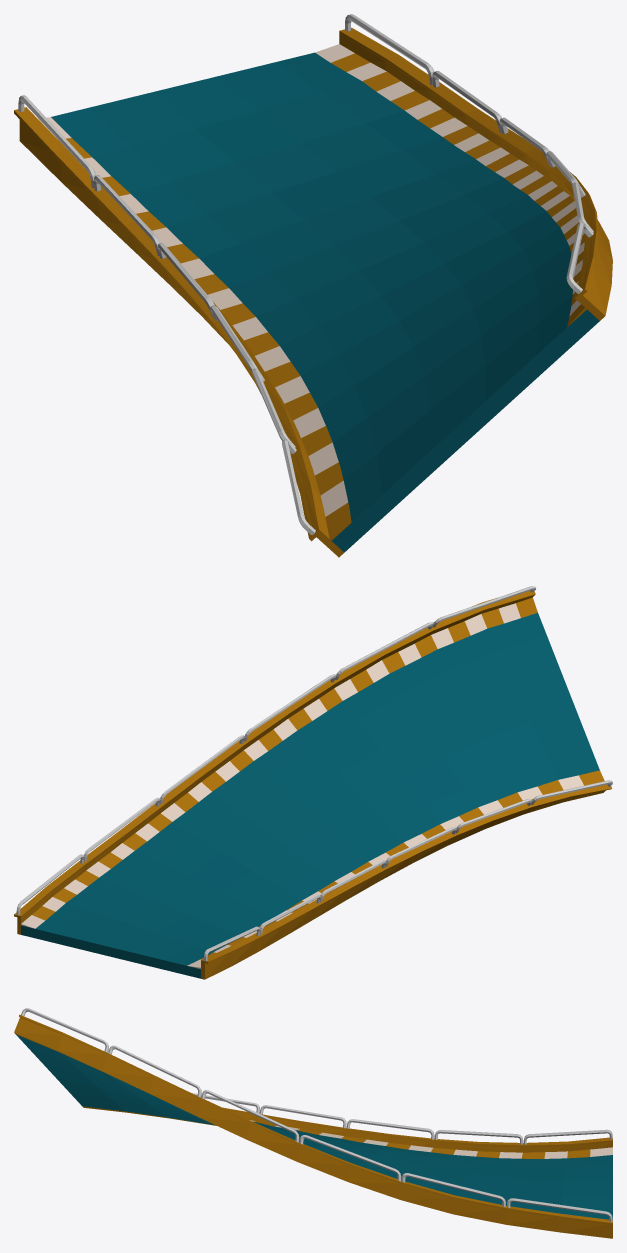
File: curveRight-30-Banked-45.FBX
3 views of the same model, one above another, from view 1: azimuth 30°, elevation 25°; view 2: azimuth 150°, elevation 25°; view 3: azimuth 270°, elevation 25° (orthographic). The views are drawn at different scales.
Parts seen in each view (by area): view 1: curveRight-30-banked-45, wall_r, wall_l, curbs_r, curbs_l; view 2: curveRight-30-banked-45, curbs_l, wall_l, wall_r, curbs_r; view 3: curveRight-30-banked-45, wall_l, wall_r, curbs_r.
Part boxes in pixels (x1,y1,x2,y2): curveRight-30-banked-45: [51, 52, 599, 552]; wall_r: [14, 95, 344, 557]; wall_l: [339, 14, 612, 320]; curbs_r: [38, 117, 351, 540]; curbs_l: [315, 44, 586, 326]; curveRight-30-banked-45: [21, 613, 599, 978]; curbs_l: [21, 597, 537, 928]; wall_l: [14, 586, 535, 934]; wall_r: [201, 780, 612, 979]; curbs_r: [187, 770, 604, 969]; curveRight-30-banked-45: [16, 1034, 612, 1219]; wall_l: [14, 1008, 612, 1238]; wall_r: [82, 1093, 612, 1152]; curbs_r: [249, 1120, 612, 1158].
Size of what is drawn, in the model's own units: 335 by 172 by 608.
